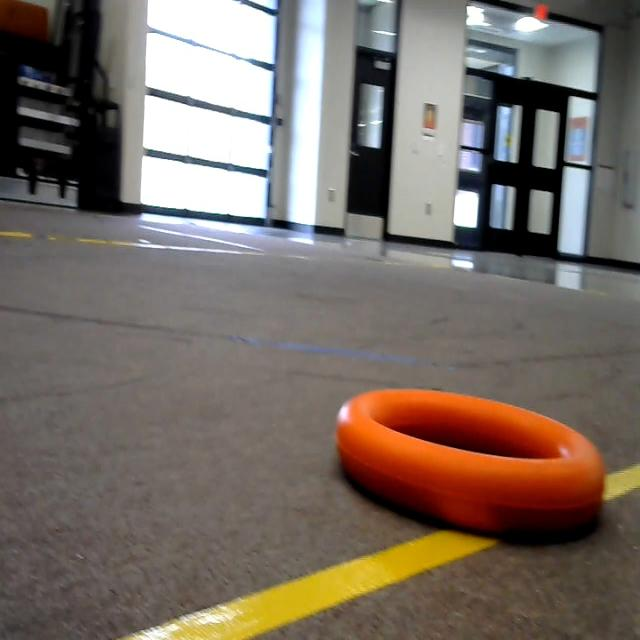note: (319, 348, 622, 560)
